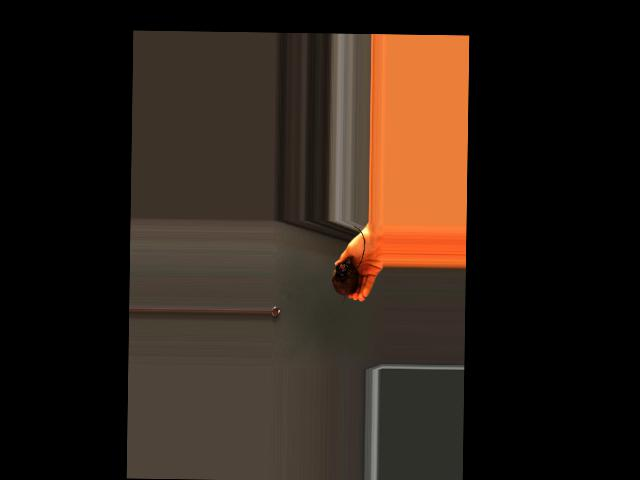beet: (332, 226, 365, 304)
